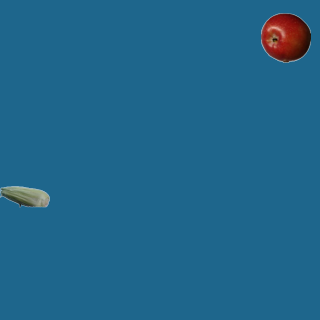Apple Braeburn: (260, 12, 310, 62)
Corn Husk: (0, 171, 49, 221)
